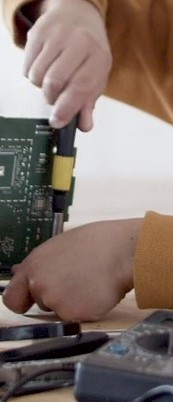screwdriver: (44, 98, 80, 239)
